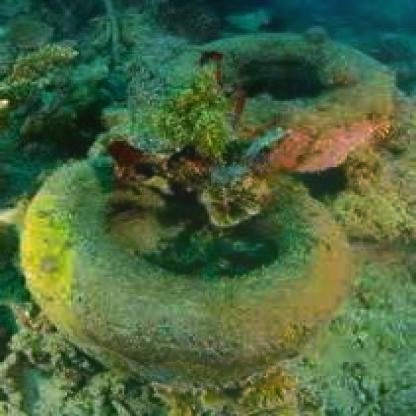tire: (16, 151, 359, 393), (116, 19, 404, 174)
